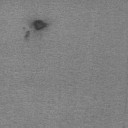iron sheet ash: (32, 20, 48, 32), (24, 30, 30, 39)
